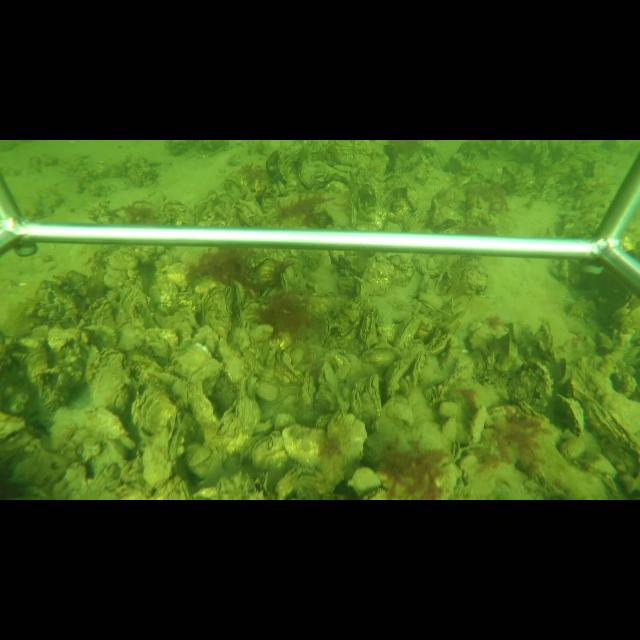Oyster-Closed: (140, 401, 184, 489), (208, 394, 258, 458), (582, 397, 637, 450), (88, 348, 129, 407), (279, 423, 326, 466), (201, 284, 234, 340), (250, 430, 289, 470), (555, 393, 585, 437), (394, 314, 423, 351), (384, 357, 409, 397), (359, 311, 376, 349), (319, 362, 340, 392), (300, 371, 316, 408), (410, 351, 425, 388), (369, 372, 382, 414), (272, 393, 297, 413), (265, 149, 278, 176), (353, 380, 363, 414), (556, 358, 569, 383), (281, 272, 289, 293)
Oyster-Open: (448, 438, 463, 462)
